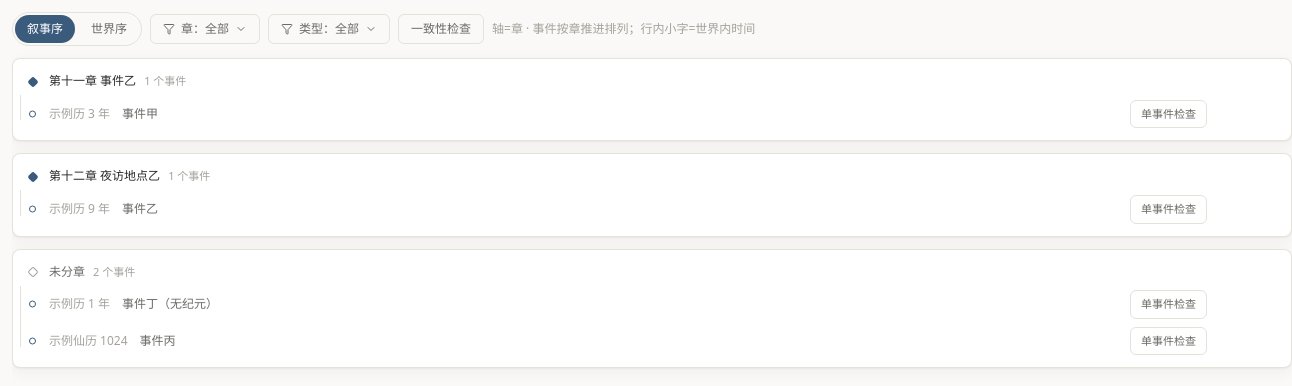
#1353 轴选择器（世界序专属；≥2 条轴才出现） › T6 默认轴（R6-4）可被选中并渲染为一条竖轴 —— 事件不丢失
Click the button with test id "tl-view-world". click: {"x": 109, "y": 29}
box: x1=79 y1=15 x2=139 y2=43
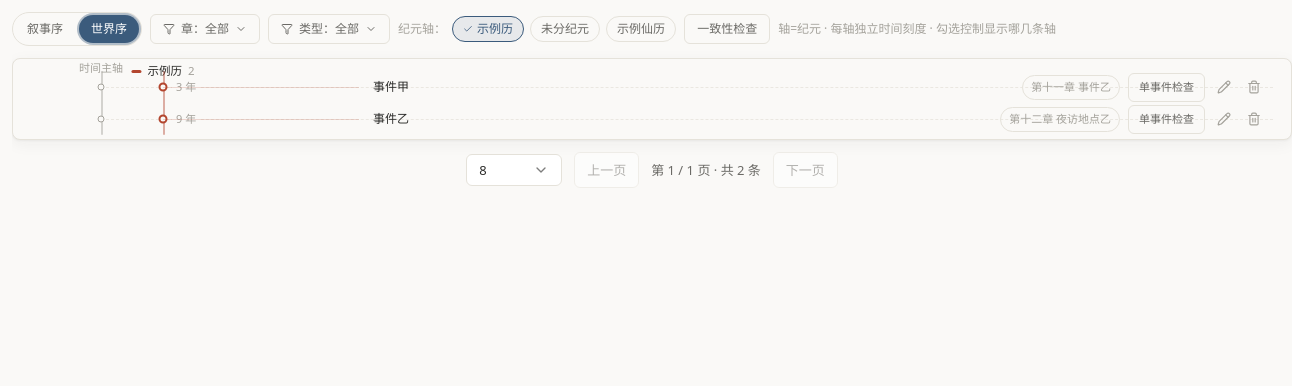
Click the button "未分纪元". click: {"x": 565, "y": 29}
box: x1=530 y1=16 x2=600 y2=42
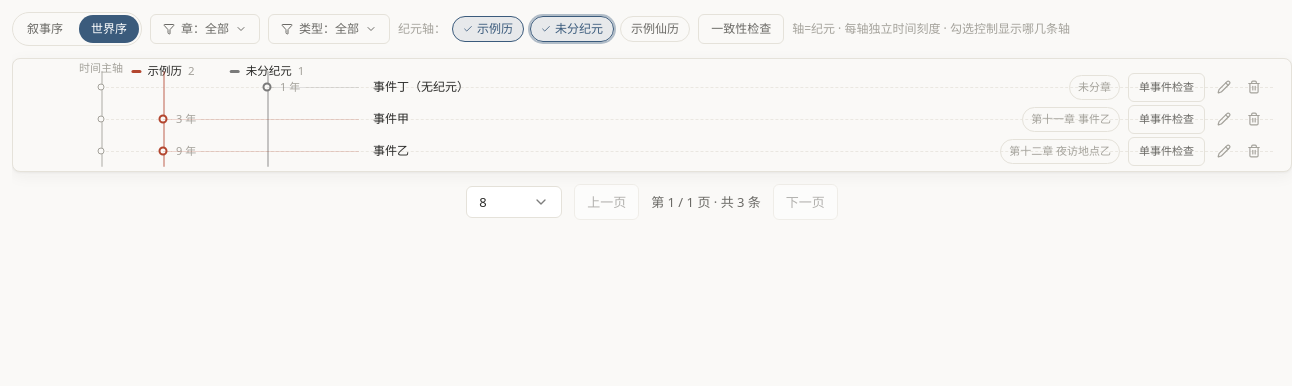
expect the element with test id "tl-axis-node-e4" is shown: met, box x1=365 y1=75 x2=1273 y2=99
